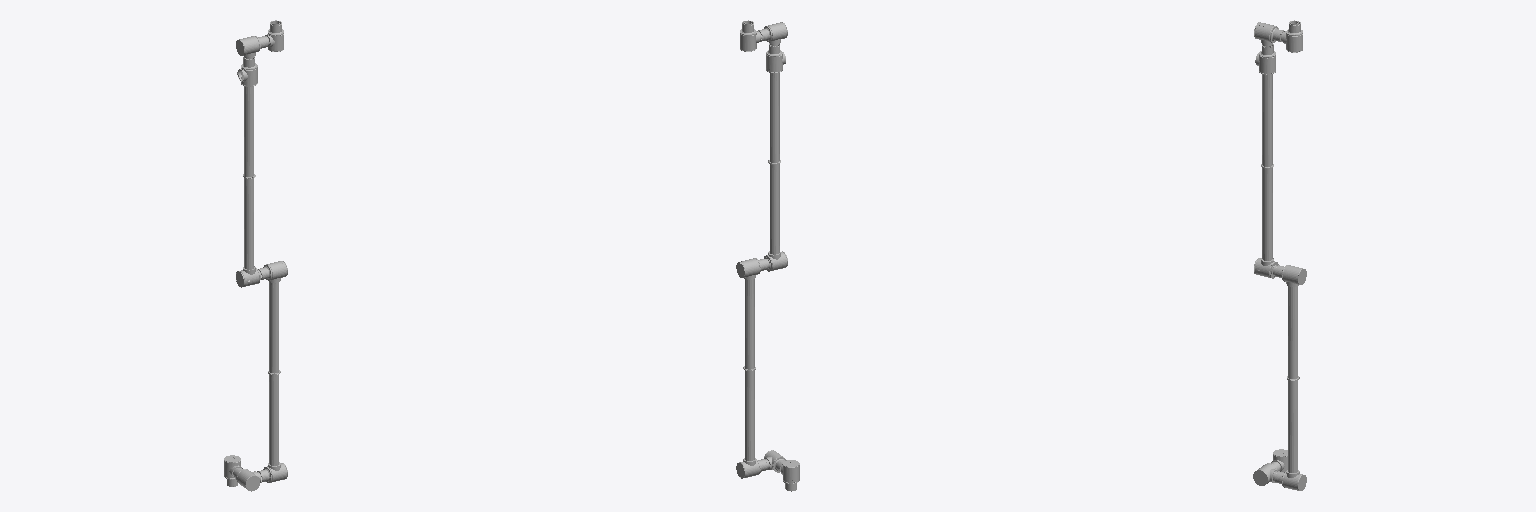
robot.urdf — urdf1:
<?xml version="1.0" encoding="utf-8"?>
<!-- This URDF was automatically created by SolidWorks to URDF Exporter! Originally created by Stephen Brawner ([email redacted]) 
     Commit Version: 1.6.0-4-g7f85cfe  Build Version: 1.6.7995.38578
     For more information, please see http://wiki.ros.org/sw_urdf_exporter -->
<robot
  name="urdf1">
  <link
    name="base_link">
    <!-- <inertial>
      <origin
        xyz="-6.0729E-05 9.277E-05 0.044384"
        rpy="0 0 0" />
      <mass
        value="5.0287" />
      <inertia
        ixx="0.01679"
        ixy="-1.5103E-05"
        ixz="6.7539E-06"
        iyy="0.016804"
        iyz="-1.0317E-05"
        izz="0.028424" />
    </inertial> -->
    <visual>
      <origin
        xyz="0 0 0"
        rpy="0 0 0" />
      <geometry>
        <mesh
          filename="package://space_driver/config/urdf1/meshes/base_link.STL" />
      </geometry>
      <material
        name="">
        <color
          rgba="0.75294 0.75294 0.75294 1" />
      </material>
    </visual>
    <collision>
      <origin
        xyz="0 0 0"
        rpy="0 0 0" />
      <geometry>
        <mesh
          filename="package://space_driver/config/urdf1/meshes/base_link.STL" />
      </geometry>
    </collision>
  </link>
  <link
    name="Link1">
    <inertial>
      <origin
        xyz="-2.04097449292562E-05 0.0113015511019697 0.0655223391033708"
        rpy="0 0 0" />
      <mass
        value="55.7444455513424" />
      <inertia
        ixx="0.727810823126981"
        ixy="-6.08303988595912E-06"
        ixz="-2.12903000814142E-07"
        iyy="0.927554282928859"
        iyz="0.0220552256243757"
        izz="1.04521065780087" />
    </inertial>
    <visual>
      <origin
        xyz="0 0 0"
        rpy="0 0 0" />
      <geometry>
        <mesh
          filename="package://space_driver/config/urdf1/meshes/Link1.STL" />
      </geometry>
      <material
        name="">
        <color
          rgba="0.752941176470588 0.752941176470588 0.752941176470588 1" />
      </material>
    </visual>
    <collision>
      <origin
        xyz="0 0 0"
        rpy="0 0 0" />
      <geometry>
        <mesh
          filename="package://space_driver/config/urdf1/meshes/Link1.STL" />
      </geometry>
    </collision>
  </link>
  <joint
    name="joint1"
    type="continuous">
    <origin
      xyz="0 0 0.3645"
      rpy="3.1416 0 0" />
    <parent
      link="base_link" />
    <child
      link="Link1" />
    <axis
      xyz="0 0 1" />
    <hardware id="0" type="driver">
            <limit lower="-0.0001" upper="0.0001" vel="0.1" acc="1.0" jerk="1.0" effort="30.0"/>
            <transform ratio="1.0" offset_pos_cnt="0" cnt_per_unit="140184287.42160" torque_per_unit="1.0" user_unit_name="rad"/>
             <inputs name="Inputs">
                <status_word>Statusword</status_word>
                <position_actual_value>Position actual value</position_actual_value>
                <velocity_actual_value>Velocity actual value</velocity_actual_value>
                <torque_actual_value>Torque actual value</torque_actual_value>
                <load_torque_value>Analog Input 1</load_torque_value>
                <secondary_position_value>Auxiliary position actual value</secondary_position_value>
                <secondary_velocity_value>Secondary velocity value</secondary_velocity_value>
            </inputs>
            <outputs name="Outputs">
                <control_word>Controlword</control_word>
                <mode_of_operation>Modes of operation</mode_of_operation>
                <target_position>Target position</target_position>
                <target_velocity>Target velocity</target_velocity>
                <target_torque>Target torque</target_torque>
            </outputs>        
        </hardware>
  </joint>
  <link
    name="Link2">
    <inertial>
      <origin
        xyz="-1.2631E-05 0.009987 0.099695"
        rpy="0 0 0" />
      <mass
        value="63.019" />
      <inertia
        ixx="0.76516"
        ixy="4.9711E-06"
        ixz="-5.2419E-06"
        iyy="0.96484"
        iyz="0.022055"
        izz="1.1145" />
    </inertial>
    <visual>
      <origin
        xyz="0 0 0"
        rpy="0 0 0" />
      <geometry>
        <mesh
          filename="package://space_driver/config/urdf1/meshes/Link2.STL" />
      </geometry>
      <material
        name="">
        <color
          rgba="0.75294 0.75294 0.75294 1" />
      </material>
    </visual>
    <collision>
      <origin
        xyz="0 0 0"
        rpy="0 0 0" />
      <geometry>
        <mesh
          filename="package://space_driver/config/urdf1/meshes/Link2.STL" />
      </geometry>
    </collision>
  </link>
  <joint
    name="joint2"
    type="continuous">
    <origin
      xyz="0 0.6115 0"
      rpy="1.5708 1.5708 0" />
    <parent
      link="Link1" />
    <child
      link="Link2" />
    <axis
      xyz="0 0 1" />
    <hardware id="1" type="driver">
            <limit lower="-0.0001" upper="0.0001" vel="0.1" acc="1.0" jerk="1.0" effort="30.0"/>
            <transform ratio="1.0" offset_pos_cnt="0" cnt_per_unit="140184287.42160" torque_per_unit="1.0" user_unit_name="rad"/>
            <inputs name="Inputs">
                <status_word>Statusword</status_word>
                <position_actual_value>Position actual value</position_actual_value>
                <velocity_actual_value>Velocity actual value</velocity_actual_value>
                <torque_actual_value>Torque actual value</torque_actual_value>
                <load_torque_value>Analog Input 1</load_torque_value>
                <secondary_position_value>Auxiliary position actual value</secondary_position_value>
                <secondary_velocity_value>Secondary velocity value</secondary_velocity_value>
            </inputs>
            <outputs name="Outputs">
                <control_word>Controlword</control_word>
                <mode_of_operation>Modes of operation</mode_of_operation>
                <target_position>Target position</target_position>
                <target_velocity>Target velocity</target_velocity>
                <target_torque>Target torque</target_torque>
            </outputs>  
        </hardware>
   
  </joint>
  <link
    name="Link3">
    <inertial>
      <origin
        xyz="2.22 -1.9964E-13 -0.55613"
        rpy="0 0 0" />
      <mass
        value="226.93" />
      <inertia
        ixx="2.9105"
        ixy="-9.9422E-06"
        ixz="1.3858E-14"
        iyy="27.692"
        iyz="7.0728E-15"
        izz="28.391" />
    </inertial>
    <visual>
      <origin
        xyz="0 0 0"
        rpy="0 0 0" />
      <geometry>
        <mesh
          filename="package://space_driver/config/urdf1/meshes/Link3.STL" />
      </geometry>
      <material
        name="">
        <color
          rgba="0.75294 0.75294 0.75294 1" />
      </material>
    </visual>
    <collision>
      <origin
        xyz="0 0 0"
        rpy="0 0 0" />
      <geometry>
        <mesh
          filename="package://space_driver/config/urdf1/meshes/Link3.STL" />
      </geometry>
    </collision>
  </link>
  <joint
    name="joint3"
    type="continuous">
    <origin
      xyz="0 0 0"
      rpy="1.5708 0 0" />
    <parent
      link="Link2" />
    <child
      link="Link3" />
    <axis
      xyz="0 0 1" />
    <hardware id="2" type="driver">
            <limit lower="-3.1415926" upper="3.1415926" vel="0.1" acc="1.0" jerk="1.0" effort="30.0"/>
            <transform ratio="1.0" offset_pos_cnt="0" cnt_per_unit="140184287.42160" torque_per_unit="1.0" user_unit_name="rad"/>
            <inputs name="Inputs">
                <status_word>Statusword</status_word>
                <position_actual_value>Position actual value</position_actual_value>
                <velocity_actual_value>Velocity actual value</velocity_actual_value>
                <torque_actual_value>Torque actual value</torque_actual_value>
                <load_torque_value>Analog Input 1</load_torque_value>
                <secondary_position_value>Auxiliary position actual value</secondary_position_value>
                <secondary_velocity_value>Secondary velocity value</secondary_velocity_value>
            </inputs>
            <outputs name="Outputs">
                <control_word>Controlword</control_word>
                <mode_of_operation>Modes of operation</mode_of_operation>
                <target_position>Target position</target_position>
                <target_velocity>Target velocity</target_velocity>
                <target_torque>Target torque</target_torque>
            </outputs>  
        </hardware>
   
  </joint>
  <link
    name="Link4">
    <inertial>
      <origin
        xyz="7.9595E-05 2.4959 -0.0035265"
        rpy="0 0 0" />
      <mass
        value="212.87" />
      <inertia
        ixx="27.578"
        ixy="-0.00024036"
        ixz="0.0011073"
        iyy="2.9769"
        iyz="-9.7846E-05"
        izz="28.074" />
    </inertial>
    <visual>
      <origin
        xyz="0 0 0"
        rpy="0 0 0" />
      <geometry>
        <mesh
          filename="package://space_driver/config/urdf1/meshes/Link4.STL" />
      </geometry>
      <material
        name="">
        <color
          rgba="0.75294 0.75294 0.75294 1" />
      </material>
    </visual>
    <collision>
      <origin
        xyz="0 0 0"
        rpy="0 0 0" />
      <geometry>
        <mesh
          filename="package://space_driver/config/urdf1/meshes/Link4.STL" />
      </geometry>
    </collision>
  </link>
  <joint
    name="joint4"
    type="continuous">
    <origin
      xyz="4.44 0 -0.035"
      rpy="-3.1416 0 1.5708" />
    <parent
      link="Link3" />
    <child
      link="Link4" />
    <axis
      xyz="0 0 1" />
    <hardware id="3" type="driver">
            <limit lower="-3.1415926" upper="3.1415926" vel="0.1" acc="1.0" jerk="1.0" effort="30.0"/>
            <transform ratio="1.0" offset_pos_cnt="0" cnt_per_unit="140184287.42160" torque_per_unit="1.0" user_unit_name="rad"/>
            <inputs name="Inputs">
                <status_word>Statusword</status_word>
                <position_actual_value>Position actual value</position_actual_value>
                <velocity_actual_value>Velocity actual value</velocity_actual_value>
                <torque_actual_value>Torque actual value</torque_actual_value>
                <load_torque_value>Analog Input 1</load_torque_value>
                <secondary_position_value>Auxiliary position actual value</secondary_position_value>
                <secondary_velocity_value>Secondary velocity value</secondary_velocity_value>
            </inputs>
            <outputs name="Outputs">
                <control_word>Controlword</control_word>
                <mode_of_operation>Modes of operation</mode_of_operation>
                <target_position>Target position</target_position>
                <target_velocity>Target velocity</target_velocity>
                <target_torque>Target torque</target_torque>
            </outputs>  
        </hardware>
   
  </joint>
  <link
    name="Link5">
    <inertial>
      <origin
        xyz="1.2631E-05 -0.099695 -0.009987"
        rpy="0 0 0" />
      <mass
        value="63.019" />
      <inertia
        ixx="0.76516"
        ixy="-5.2419E-06"
        ixz="4.9711E-06"
        iyy="1.1145"
        iyz="0.022055"
        izz="0.96484" />
    </inertial>
    <visual>
      <origin
        xyz="0 0 0"
        rpy="0 0 0" />
      <geometry>
        <mesh
          filename="package://space_driver/config/urdf1/meshes/Link5.STL" />
      </geometry>
      <material
        name="">
        <color
          rgba="0.75294 0.75294 0.75294 1" />
      </material>
    </visual>
    <collision>
      <origin
        xyz="0 0 0"
        rpy="0 0 0" />
      <geometry>
        <mesh
          filename="package://space_driver/config/urdf1/meshes/Link5.STL" />
      </geometry>
    </collision>
  </link>
  <joint
    name="joint5"
    type="continuous">
    <origin
      xyz="0 5.0815 0"
      rpy="-1.5708 0 0" />
    <parent
      link="Link4" />
    <child
      link="Link5" />
    <axis
      xyz="0 0 1" />
    <hardware id="4" type="driver">
            <limit lower="-0.0001" upper="0.0001" vel="0.1" acc="1.0" jerk="1.0" effort="30.0"/>
            <transform ratio="1.0" offset_pos_cnt="0" cnt_per_unit="140184287.42160" torque_per_unit="1.0" user_unit_name="rad"/>
            <inputs name="Inputs">
                <status_word>Statusword</status_word>
                <position_actual_value>Position actual value</position_actual_value>
                <velocity_actual_value>Velocity actual value</velocity_actual_value>
                <torque_actual_value>Torque actual value</torque_actual_value>
                <load_torque_value>Analog Input 1</load_torque_value>
                <secondary_position_value>Auxiliary position actual value</secondary_position_value>
                <secondary_velocity_value>Secondary velocity value</secondary_velocity_value>
            </inputs>
            <outputs name="Outputs">
                <control_word>Controlword</control_word>
                <mode_of_operation>Modes of operation</mode_of_operation>
                <target_position>Target position</target_position>
                <target_velocity>Target velocity</target_velocity>
                <target_torque>Target torque</target_torque>
            </outputs>  
        </hardware>
   
  </joint>
  <link
    name="Link6">
    <inertial>
      <origin
        xyz="-2.041E-05 0.065522 -0.011302"
        rpy="0 0 0" />
      <mass
        value="55.744" />
      <inertia
        ixx="0.72781"
        ixy="-2.129E-07"
        ixz="6.083E-06"
        iyy="1.0452"
        iyz="-0.022055"
        izz="0.92755" />
    </inertial>
    <visual>
      <origin
        xyz="0 0 0"
        rpy="0 0 0" />
      <geometry>
        <mesh
          filename="package://space_driver/config/urdf1/meshes/Link6.STL" />
      </geometry>
      <material
        name="">
        <color
          rgba="0.75294 0.75294 0.75294 1" />
      </material>
    </visual>
    <collision>
      <origin
        xyz="0 0 0"
        rpy="0 0 0" />
      <geometry>
        <mesh
          filename="package://space_driver/config/urdf1/meshes/Link6.STL" />
      </geometry>
    </collision>
  </link>
  <joint
    name="joint6"
    type="continuous">
    <origin
      xyz="0 -0.6115 0"
      rpy="1.5708 0 0" />
    <parent
      link="Link5" />
    <child
      link="Link6" />
    <axis
      xyz="0 0 1" />
    <hardware id="5" type="driver">
            <limit lower="-3.1415926" upper="3.1415926" vel="0.1" acc="1.0" jerk="1.0" effort="30.0"/>
            <transform ratio="1.0" offset_pos_cnt="0" cnt_per_unit="140184287.42160" torque_per_unit="1.0" user_unit_name="rad"/>
            <inputs name="Inputs">
                <status_word>Statusword</status_word>
                <position_actual_value>Position actual value</position_actual_value>
                <velocity_actual_value>Velocity actual value</velocity_actual_value>
                <torque_actual_value>Torque actual value</torque_actual_value>
                <load_torque_value>Analog Input 1</load_torque_value>
                <secondary_position_value>Auxiliary position actual value</secondary_position_value>
                <secondary_velocity_value>Secondary velocity value</secondary_velocity_value>
            </inputs>
            <outputs name="Outputs">
                <control_word>Controlword</control_word>
                <mode_of_operation>Modes of operation</mode_of_operation>
                <target_position>Target position</target_position>
                <target_velocity>Target velocity</target_velocity>
                <target_torque>Target torque</target_torque>
            </outputs>  
        </hardware>
   
  </joint>
  <link
    name="Link7">
    <inertial>
      <origin
        xyz="8.7299E-06 -0.00011054 -0.069201"
        rpy="0 0 0" />
      <mass
        value="5.0287" />
      <inertia
        ixx="0.016781"
        ixy="-2.5869E-06"
        ixz="9.7088E-07"
        iyy="0.016813"
        iyz="-1.2293E-05"
        izz="0.028424" />
    </inertial>
    <visual>
      <origin
        xyz="0 0 0"
        rpy="0 0 0" />
      <geometry>
        <mesh
          filename="package://space_driver/config/urdf1/meshes/Link7.STL" />
      </geometry>
      <material
        name="">
        <color
          rgba="0.75294 0.75294 0.75294 1" />
      </material>
    </visual>
    <collision>
      <origin
        xyz="0 0 0"
        rpy="0 0 0" />
      <geometry>
        <mesh
          filename="package://space_driver/config/urdf1/meshes/Link7.STL" />
      </geometry>
    </collision>
  </link>
  <joint
    name="joint7"
    type="continuous">
    <origin
      xyz="0 0.38932 0"
      rpy="-1.5708 0 0" />
    <parent
      link="Link6" />
    <child
      link="Link7" />
    <axis
      xyz="0 0 1" />
    <hardware id="6" type="driver">
            <limit lower="-3.1415926" upper="3.1415926" vel="0.1" acc="1.0" jerk="1.0" effort="30.0"/>
            <transform ratio="1.0" offset_pos_cnt="0" cnt_per_unit="140184287.42160" torque_per_unit="1.0" user_unit_name="rad"/>
            <inputs name="Inputs">
                <status_word>Statusword</status_word>
                <position_actual_value>Position actual value</position_actual_value>
                <velocity_actual_value>Velocity actual value</velocity_actual_value>
                <torque_actual_value>Torque actual value</torque_actual_value>
                <load_torque_value>Analog Input 1</load_torque_value>
                <secondary_position_value>Auxiliary position actual value</secondary_position_value>
                <secondary_velocity_value>Secondary velocity value</secondary_velocity_value>
            </inputs>
            <outputs name="Outputs">
                <control_word>Controlword</control_word>
                <mode_of_operation>Modes of operation</mode_of_operation>
                <target_position>Target position</target_position>
                <target_velocity>Target velocity</target_velocity>
                <target_torque>Target torque</target_torque>
            </outputs>  
        </hardware>
   
  </joint>
</robot>

--- Render facts (derived) ---
Views: 3 orthographic renders of the robot side by side, from view 1: azimuth 30°, elevation 25°; view 2: azimuth 210°, elevation 25°; view 3: azimuth 330°, elevation 25°.
Robot: urdf1 — 8 links, 7 joints (7 continuous); root link base_link; default pose: all joints at 0.
Links seen in each view (by area): view 1: Link3, Link4, Link5; view 2: Link3, Link4; view 3: Link3, Link4.
Boxes of the visible links, bbox=[...] form: Link3: bbox=[257, 261, 287, 482]; Link4: bbox=[236, 56, 260, 287]; Link5: bbox=[236, 35, 269, 56]; Link3: bbox=[736, 257, 770, 478]; Link4: bbox=[764, 43, 787, 271]; Link3: bbox=[1271, 264, 1306, 490]; Link4: bbox=[1254, 44, 1278, 278].
Bounding box of the posed robot: 1.01 × 0.9915 × 10.25 m (x, y, z).
Meshes: 8 distinct files referenced, 8 mesh visuals loaded (8 binary STL).
